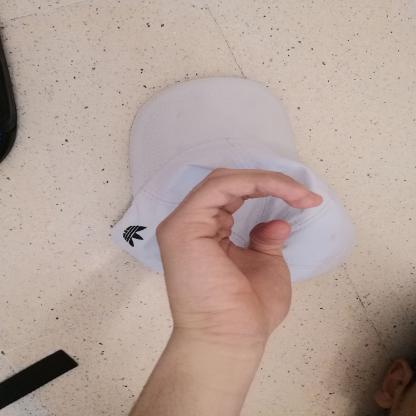JEEM: (140, 153, 342, 351)
